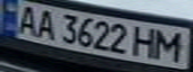2: (109, 20, 133, 56), (90, 18, 112, 53)
3: (54, 12, 81, 45)
6: (75, 16, 96, 48)
A: (9, 2, 42, 35), (30, 8, 60, 41)
H: (130, 25, 160, 60)
M: (154, 28, 190, 63)
